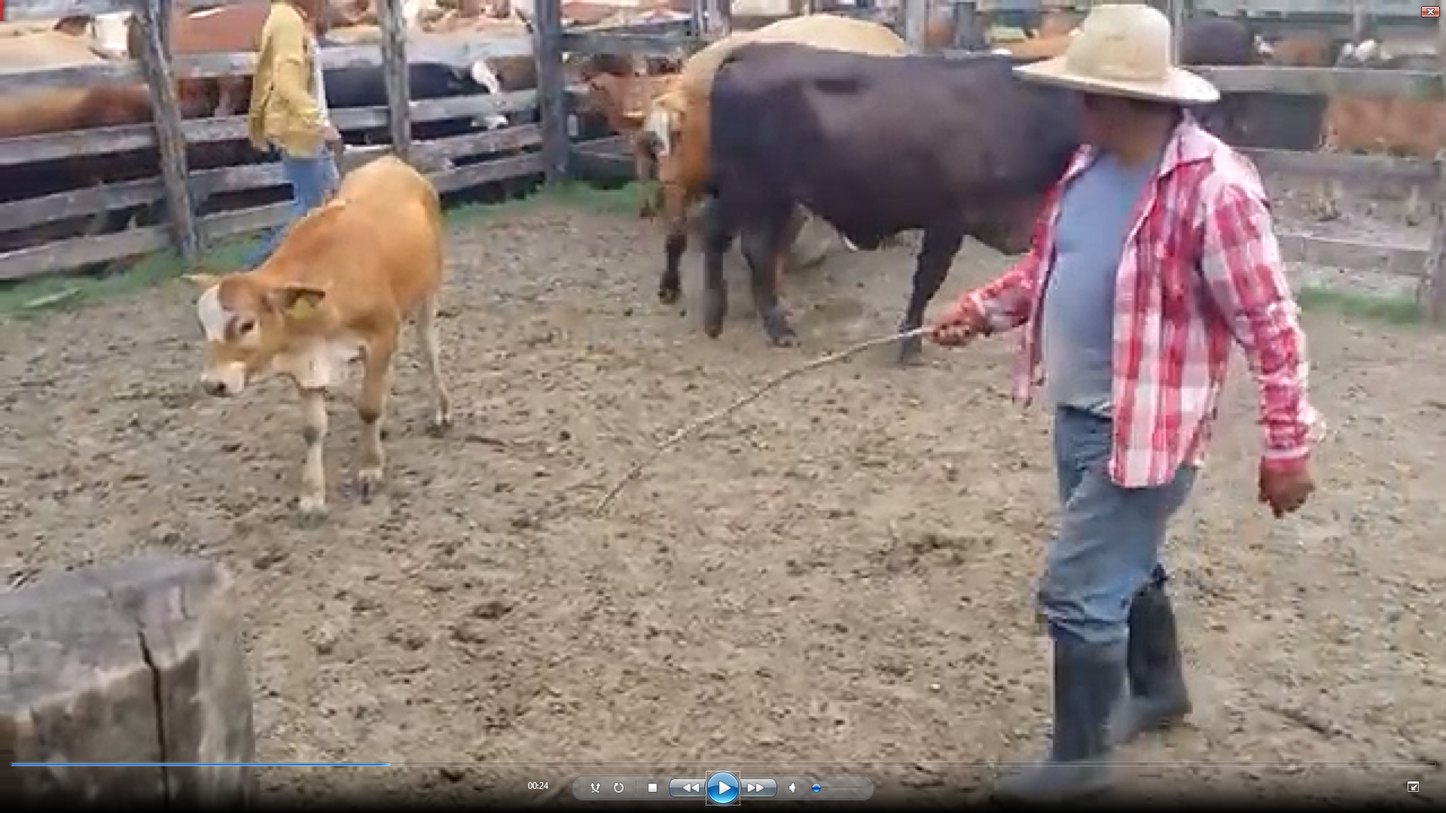bovino: (184, 144, 448, 519)
